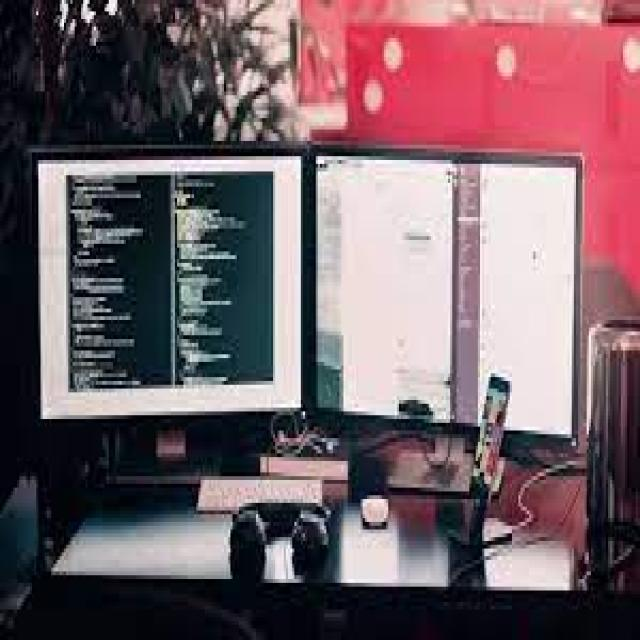komputer: (313, 149, 584, 512), (30, 144, 304, 500)
